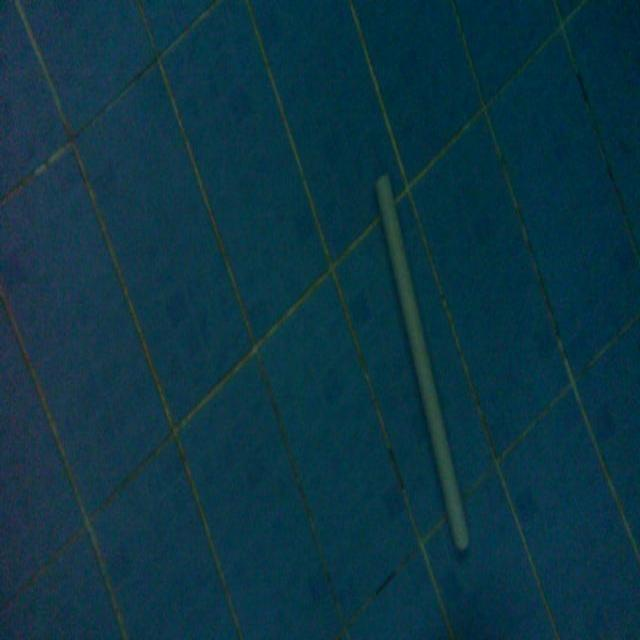Cube: (372, 165, 472, 555)
